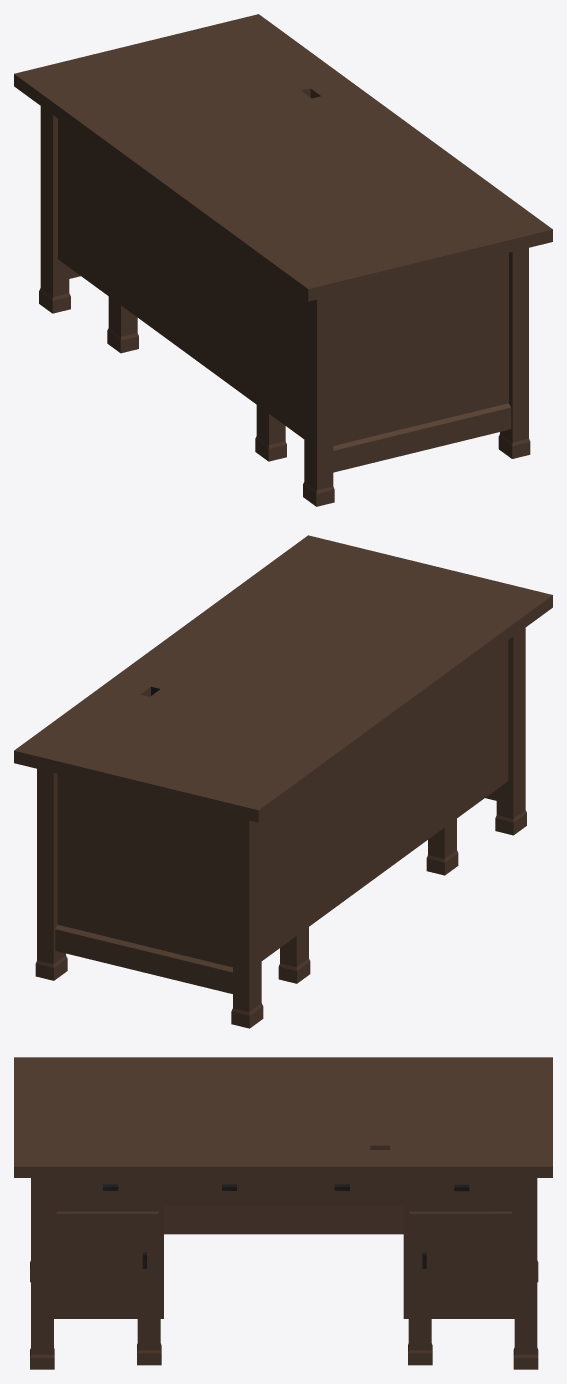
The model's file is table.fbx.
The picture shows the model from 3 angles, top to bottom: view 1: azimuth 30°, elevation 25°; view 2: azimuth 150°, elevation 25°; view 3: azimuth 270°, elevation 25°; orthographic projection. The views are drawn at different scales.
Parts seen in each view (by area): view 1: S_Desk; view 2: S_Desk; view 3: S_Desk.
Boxes of the visible parts, x1=… form: S_Desk: x1=14, y1=14, x2=552, y2=506; S_Desk: x1=14, y1=535, x2=552, y2=1028; S_Desk: x1=14, y1=1057, x2=552, y2=1369.
Size of the model in its own units: 100 by 89.55 by 209.
